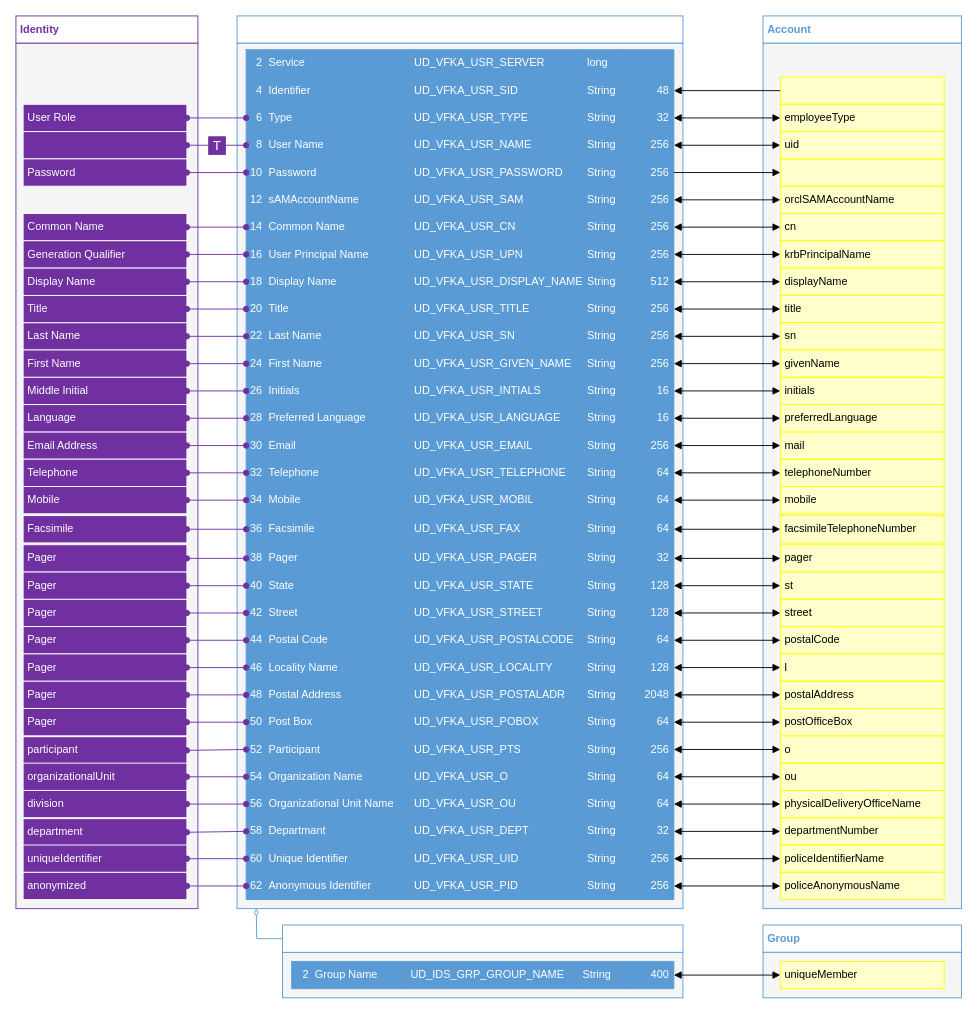
Image size: 978x1014. Some labels were removed from this diagram. The shapes that lost their labels are listed below. From the top down, each one's centre as x and y in pixels, then its label:
(459,29): IDS Account
(861,90): entryUUID
(104,145): User Login
(861,172): userPassword
(482,938): IDS Account Group
